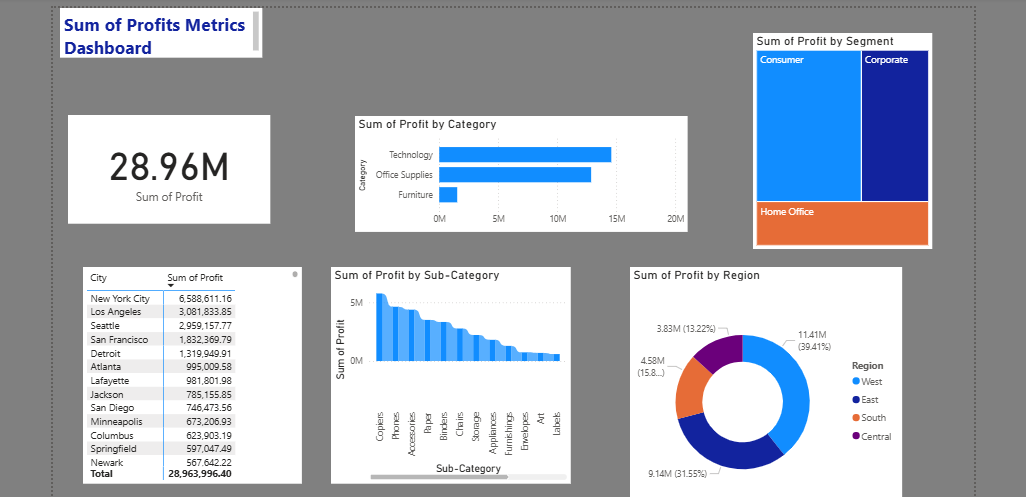

What the dashboard file says about the page in this screenshot:
{"tool":"powerbi","page":{"name":"Page 2","canvas":[1280,720],"ordinal":1},"visuals":[{"type":"textbox","box":[10.1,0,280.5,68.9],"z":0},{"type":"card","fields":{"Values":["Sum(Cleaned Data.Profit)"]},"box":[20.5,149.3,281,150.7],"z":1000},{"type":"barChart","fields":{"Category":["Cleaned Data.Category"],"Y":["Sum(Cleaned Data.Profit)"]},"box":[419.9,149.5,461.9,161.3],"z":2000},{"type":"pivotTable","fields":{"Rows":["Cleaned Data.City"],"Values":["Sum(Cleaned Data.Profit)"]},"box":[42,359.5,304,300.7],"z":3000},{"type":"donutChart","fields":{"Category":["Cleaned Data.Region"],"Y":["Sum(Cleaned Data.Profit)"]},"box":[801.3,359.5,378,356.1],"z":4000},{"type":"treemap","fields":{"Group":["Cleaned Data.Segment"],"Values":["Sum(Cleaned Data.Profit)"]},"box":[971.7,35.1,248.8,300],"z":5000},{"type":"ribbonChart","fields":{"Y":["Sum(Cleaned Data.Profit)"],"Category":["Cleaned Data.Sub-Category"]},"box":[386.4,359.5,332.6,300.7],"z":6000}]}

Visuals, with their boxes on the page's 1280x720 design canvas (x1, y1, x2, y2). These are canvas units, not pixel positions in the 1026x497 screenshot, which may show the page scaled, cropped or inside an application window:
textbox: BBox(10, 0, 291, 69)
card - Sum(Cleaned Data.Profit): BBox(20, 149, 302, 300)
barChart - Cleaned Data.Category x Sum(Cleaned Data.Profit): BBox(420, 150, 882, 311)
pivotTable - Cleaned Data.City x Sum(Cleaned Data.Profit): BBox(42, 360, 346, 660)
donutChart - Cleaned Data.Region x Sum(Cleaned Data.Profit): BBox(801, 360, 1179, 716)
treemap - Cleaned Data.Segment x Sum(Cleaned Data.Profit): BBox(972, 35, 1220, 335)
ribbonChart - Sum(Cleaned Data.Profit) x Cleaned Data.Sub-Category: BBox(386, 360, 719, 660)
